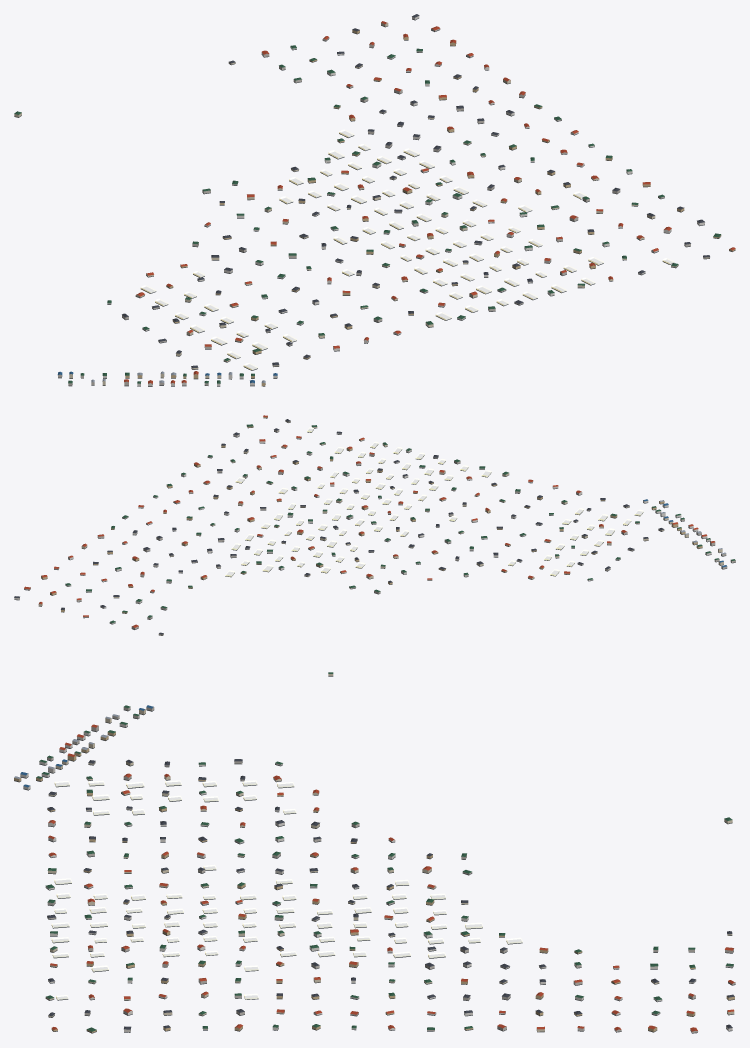
Rendered from buildings_T_W02_N03.glb.
3 views of the same model, one above another, from view 1: azimuth 30°, elevation 25°; view 2: azimuth 150°, elevation 25°; view 3: azimuth 270°, elevation 25° (orthographic). The views are drawn at different scales.
Parts seen in each view (by area): view 1: T_W02_N03_slope_seating_foundations, T_W02_N03_roofs_agri_greenhouse_arch, T_W02_N03_roofs_roof_pine_green_hip, T_W02_N03_roofs_roof_terracotta_gable, T_W02_N03_roofs_roof_slate_French_villa_hip, T_W02_N03_walls_wall_modern_warm_white, T_W02_N03_walls_wall_french_ochre_villa, T_W02_N03_walls_wall_pastel_sand_gray, T_W02_N03_walls_wall_dalat_cream_stucco; view 2: T_W02_N03_slope_seating_foundations, T_W02_N03_roofs_agri_greenhouse_arch, T_W02_N03_roofs_roof_pine_green_hip, T_W02_N03_roofs_roof_terracotta_gable, T_W02_N03_roofs_roof_slate_French_villa_hip, T_W02_N03_walls_wall_modern_warm_white, T_W02_N03_walls_wall_french_ochre_villa, T_W02_N03_walls_wall_pastel_sand_gray, T_W02_N03_walls_wall_dalat_cream_stucco; view 3: T_W02_N03_slope_seating_foundations, T_W02_N03_roofs_agri_greenhouse_arch, T_W02_N03_roofs_roof_pine_green_hip, T_W02_N03_roofs_roof_terracotta_gable, T_W02_N03_roofs_roof_slate_French_villa_hip, T_W02_N03_walls_wall_modern_warm_white, T_W02_N03_walls_wall_french_ochre_villa, T_W02_N03_walls_wall_pastel_sand_gray, T_W02_N03_walls_wall_dalat_cream_stucco.
Boxes of the visible parts, x1,y1,x2,y2 form: T_W02_N03_slope_seating_foundations: (14, 18, 735, 386); T_W02_N03_roofs_agri_greenhouse_arch: (140, 129, 674, 370); T_W02_N03_roofs_roof_pine_green_hip: (14, 45, 720, 383); T_W02_N03_roofs_roof_terracotta_gable: (124, 21, 735, 383); T_W02_N03_roofs_roof_slate_French_villa_hip: (122, 14, 709, 368); T_W02_N03_walls_wall_modern_warm_white: (103, 16, 704, 386); T_W02_N03_walls_wall_french_ochre_villa: (125, 30, 735, 385); T_W02_N03_walls_wall_pastel_sand_gray: (58, 28, 690, 385); T_W02_N03_walls_wall_dalat_cream_stucco: (14, 23, 709, 385); T_W02_N03_slope_seating_foundations: (14, 417, 735, 676); T_W02_N03_roofs_agri_greenhouse_arch: (225, 427, 643, 576); T_W02_N03_roofs_roof_pine_green_hip: (65, 424, 735, 673); T_W02_N03_roofs_roof_terracotta_gable: (24, 415, 714, 627); T_W02_N03_roofs_roof_slate_French_villa_hip: (14, 419, 664, 634); T_W02_N03_walls_wall_modern_warm_white: (14, 433, 711, 624); T_W02_N03_walls_wall_french_ochre_villa: (41, 416, 702, 613); T_W02_N03_walls_wall_pastel_sand_gray: (24, 429, 735, 629); T_W02_N03_walls_wall_dalat_cream_stucco: (38, 420, 723, 675); T_W02_N03_slope_seating_foundations: (14, 709, 735, 1033); T_W02_N03_roofs_agri_greenhouse_arch: (51, 780, 522, 999); T_W02_N03_roofs_roof_pine_green_hip: (36, 705, 733, 1031); T_W02_N03_roofs_roof_terracotta_gable: (48, 724, 735, 1031); T_W02_N03_roofs_roof_slate_French_villa_hip: (47, 759, 734, 1029); T_W02_N03_walls_wall_modern_warm_white: (20, 723, 733, 1032); T_W02_N03_walls_wall_french_ochre_villa: (14, 732, 734, 1032); T_W02_N03_walls_wall_pastel_sand_gray: (47, 707, 735, 1032); T_W02_N03_walls_wall_dalat_cream_stucco: (45, 709, 734, 1031).
Bounding box in the file's own units: 1834 × 31.2 × 1686.
